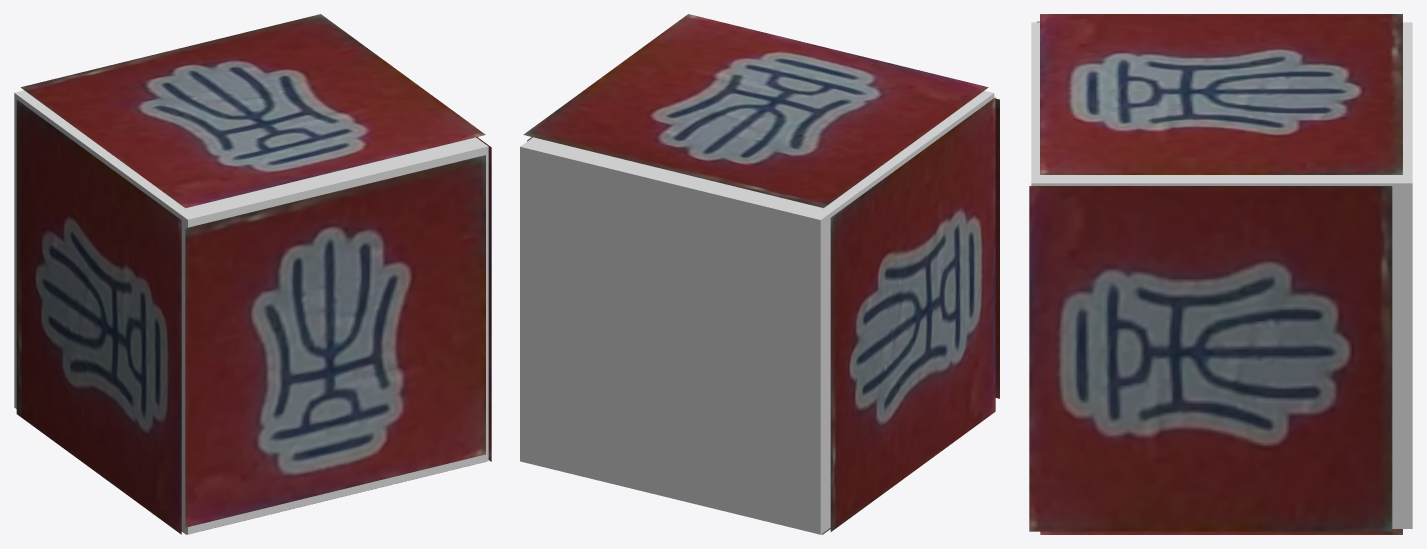
3 views of the same model, side by side, from view 1: azimuth 30°, elevation 25°; view 2: azimuth 150°, elevation 25°; view 3: azimuth 270°, elevation 25° (orthographic). The views are drawn at different scales.
Visible parts, largest first — view 1: R2.001, R2.002, R2, Link36, R2.004; view 2: Link36, R2.002, R2, R2.001; view 3: R2.004, R2, Link36, R2.003.
Boxes of the visible parts, left/top/right/bottom form: R2.001: left=185, top=155, right=485, bottom=527; R2.002: left=16, top=100, right=181, bottom=534; R2: left=20, top=14, right=485, bottom=208; Link36: left=14, top=90, right=488, bottom=534; R2.004: left=476, top=137, right=491, bottom=461; Link36: left=520, top=90, right=994, bottom=534; R2.002: left=830, top=97, right=995, bottom=531; R2: left=523, top=14, right=988, bottom=208; R2.001: left=995, top=98, right=999, bottom=398; R2.004: left=1029, top=186, right=1392, bottom=531; R2: left=1040, top=14, right=1402, bottom=174; Link36: left=1031, top=22, right=1412, bottom=528; R2.003: left=1040, top=529, right=1402, bottom=534.
Bounding box in the file's own units: 0.3578 × 0.3529 × 0.3637.
Materials: 1 (1 with a texture image).
